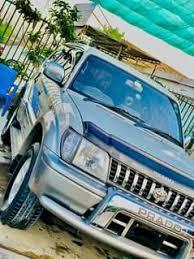windshield: (68, 46, 183, 148)
